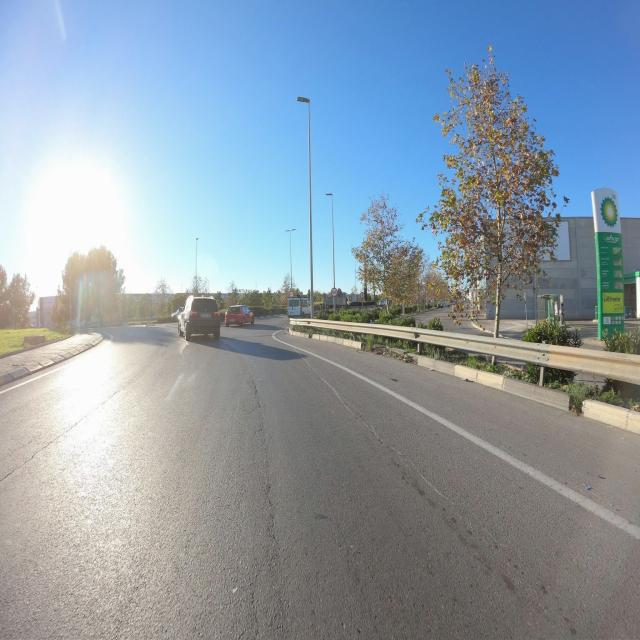car: (177, 294, 221, 342), (286, 297, 313, 318), (224, 304, 244, 327), (242, 306, 255, 325)
